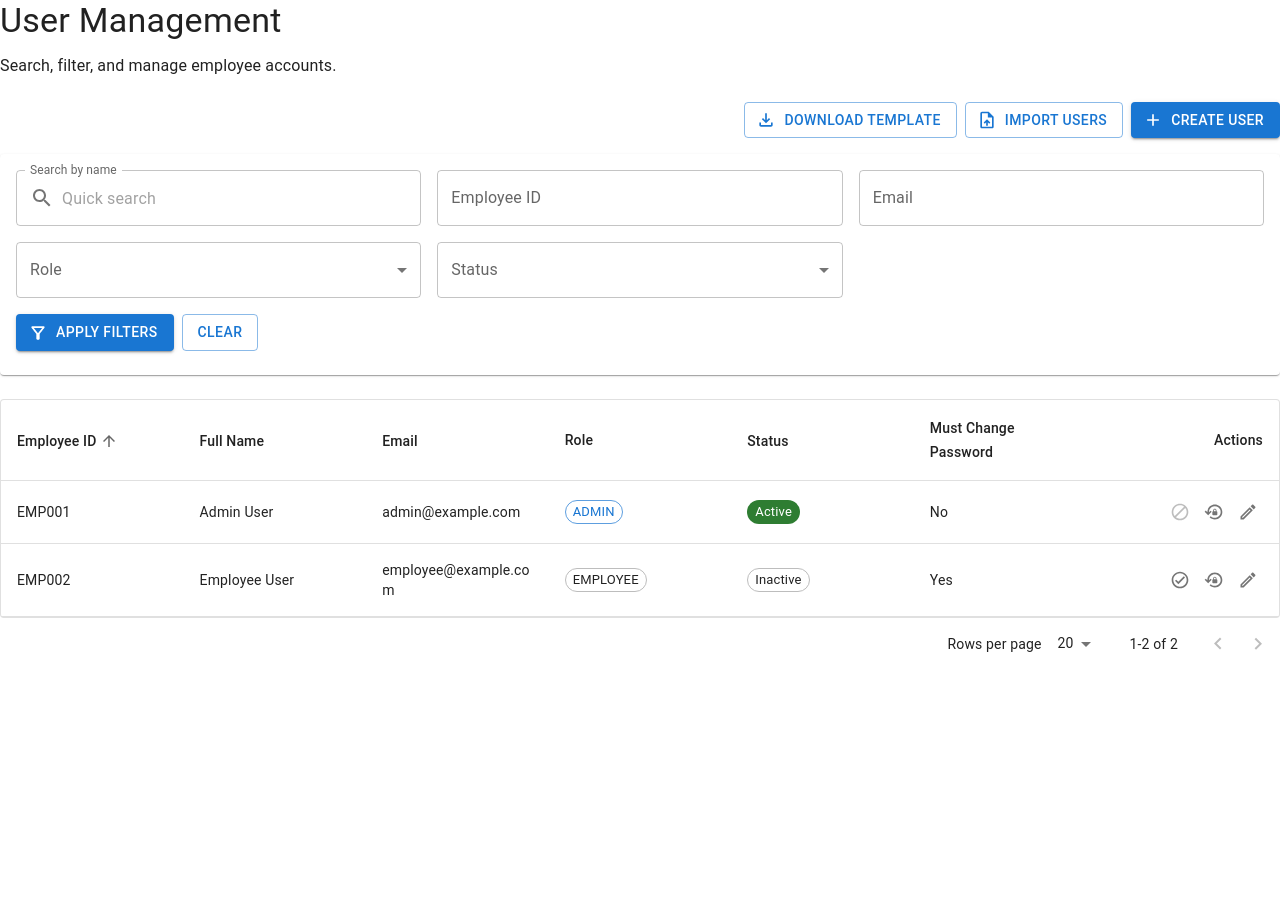
Test: UserListPage › activates an inactive user after confirmation
This screenshot has width=1280, height=900.
Expected: the text "Employee User" is shown, [200, 572, 294, 588]
Click the button named "Activate user Employee User": (1180, 580) [1165, 565, 1195, 595]
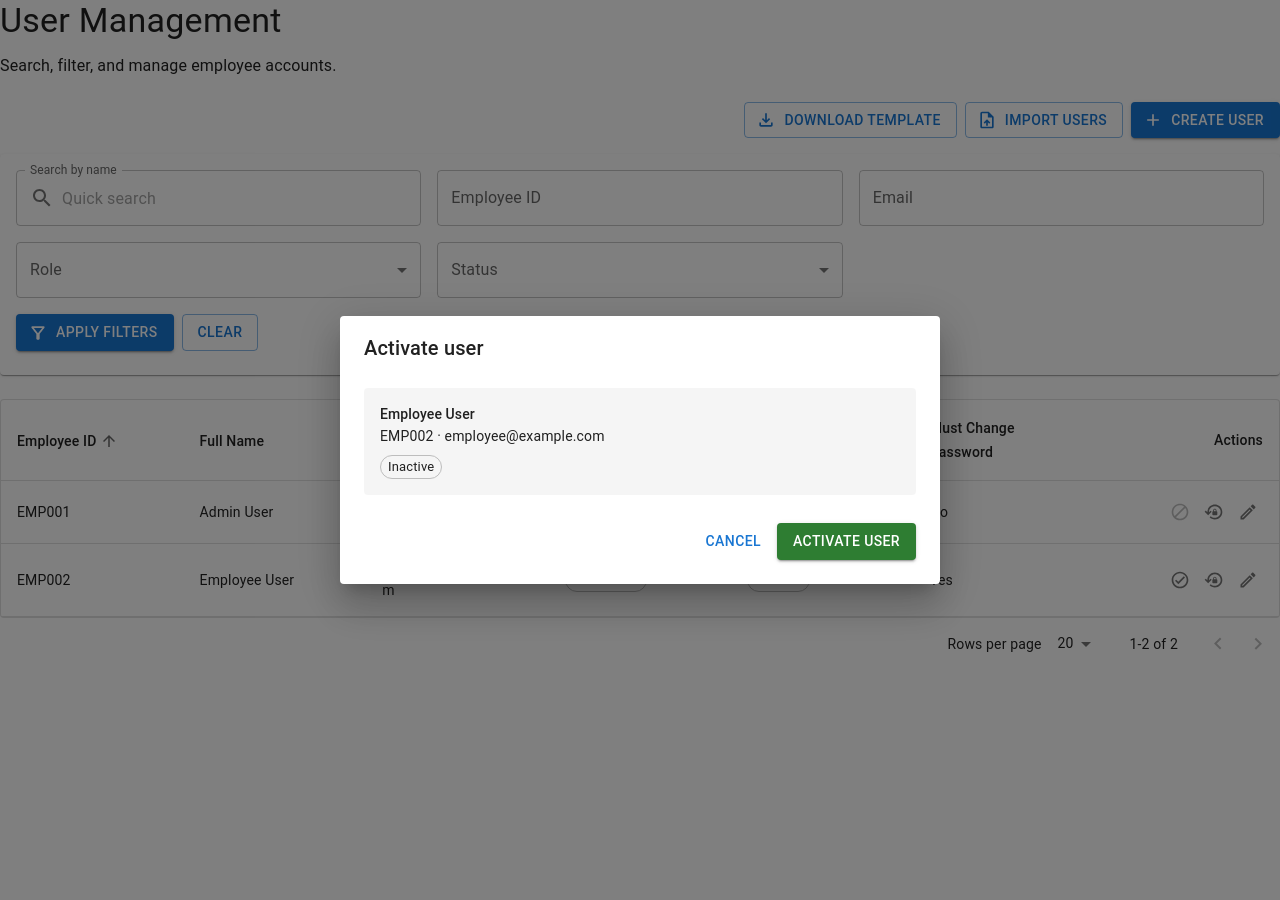
Click the button "Activate user": (846, 541) [777, 523, 916, 560]
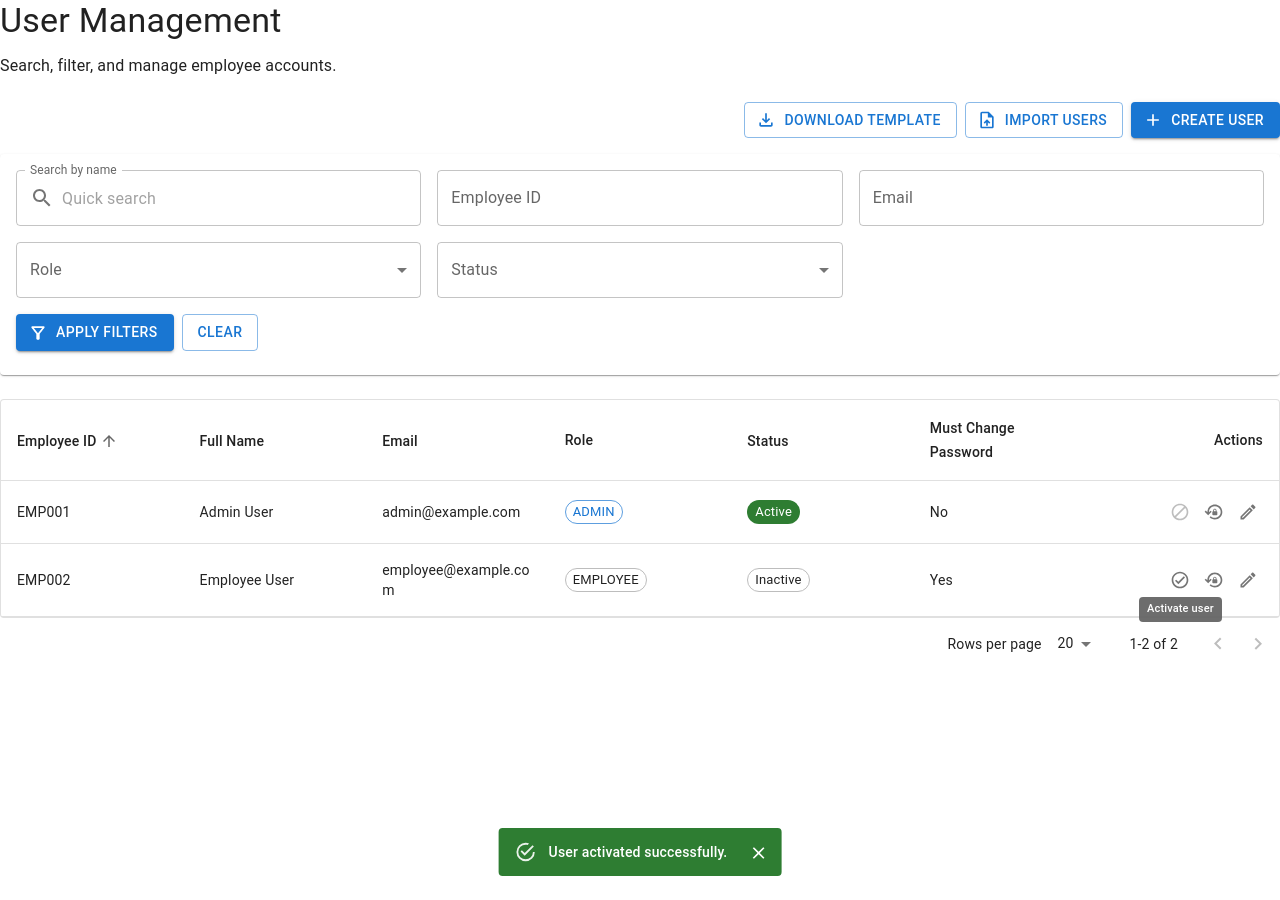
Result: the message reads "User activated successfully." at [549, 844, 727, 860]
